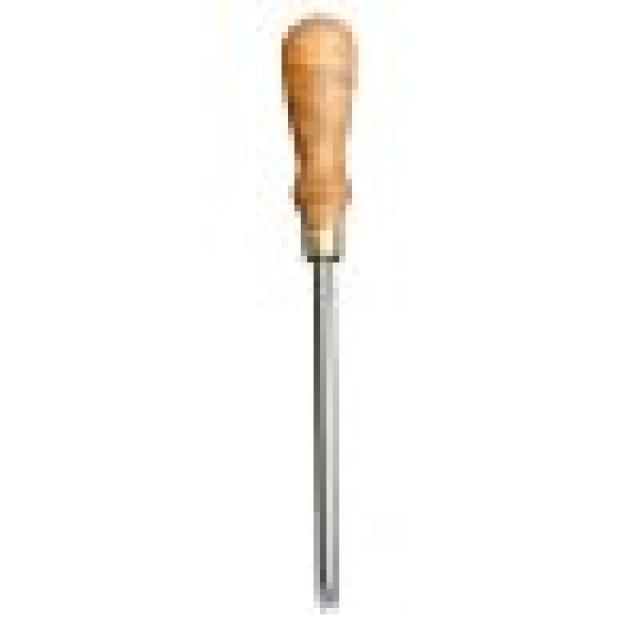screwdriver: (252, 0, 368, 610)
